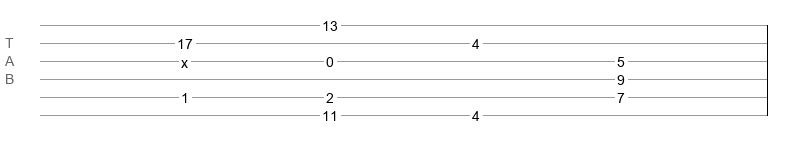0: (326, 54, 334, 64)
1: (181, 90, 189, 100)
11: (322, 108, 338, 118)
13: (322, 18, 338, 28)
17: (177, 36, 193, 46)
2: (326, 90, 334, 100)
4: (472, 36, 480, 46), (472, 108, 480, 118)
5: (617, 54, 625, 64)
7: (617, 90, 625, 100)
9: (617, 72, 625, 82)
x: (181, 55, 188, 63)
